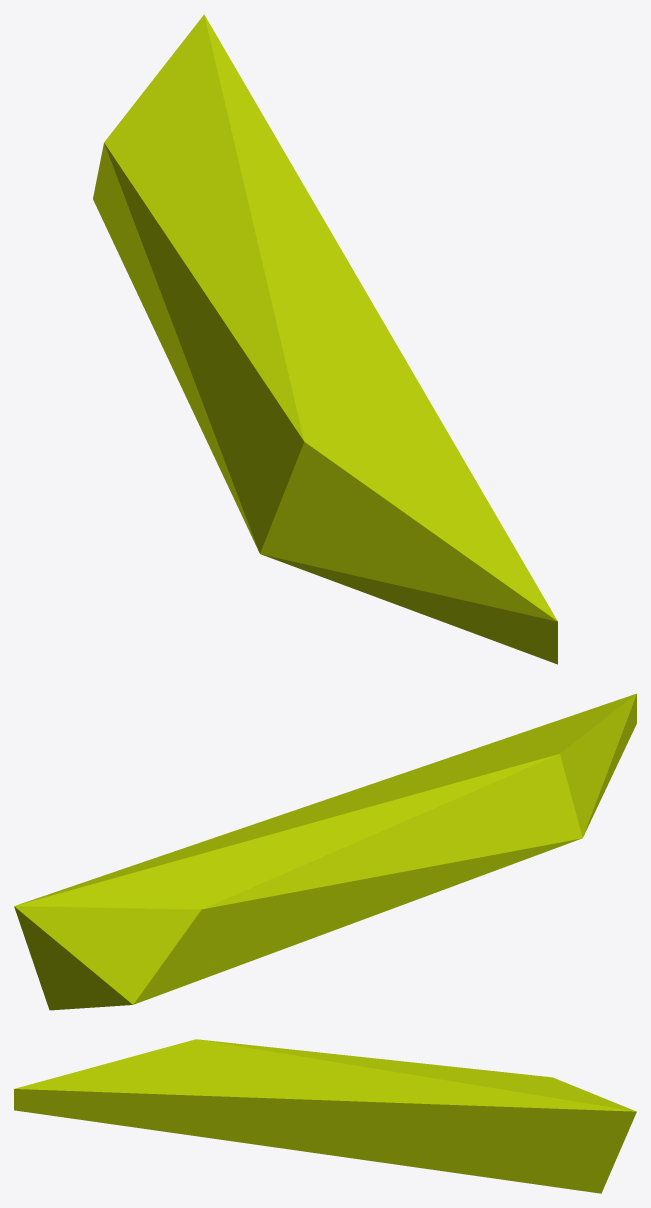
The model's file is coffee_convex_piece_030.obj.
The picture shows the model from 3 angles, top to bottom: view 1: azimuth 30°, elevation 25°; view 2: azimuth 150°, elevation 25°; view 3: azimuth 270°, elevation 25°; orthographic projection. The views are drawn at different scales.
Size of the model in its own units: 0.000148 by 6.4e-05 by 0.000421.
